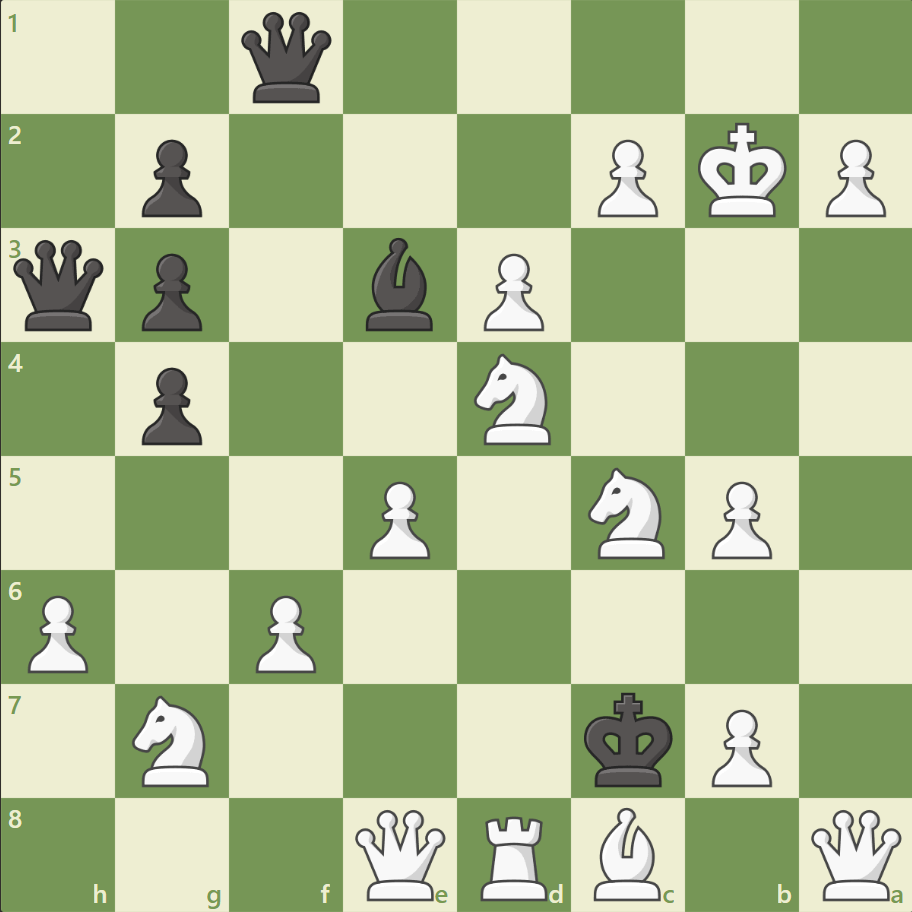B: (585, 801, 669, 904)
K: (692, 117, 792, 225)
N: (124, 688, 222, 791), (579, 461, 676, 564), (465, 348, 562, 450)
P: (701, 700, 776, 791), (247, 586, 322, 677), (20, 586, 95, 677), (701, 473, 776, 564), (474, 246, 549, 337), (361, 473, 435, 564), (815, 132, 889, 223), (588, 132, 662, 223)
Q: (805, 804, 904, 903), (351, 804, 450, 903)
R: (473, 806, 556, 904)
b: (358, 233, 442, 336)
k: (579, 685, 679, 793)
p: (133, 359, 208, 450), (133, 246, 208, 337), (133, 132, 208, 223)
q: (10, 236, 109, 335), (237, 9, 336, 108)
